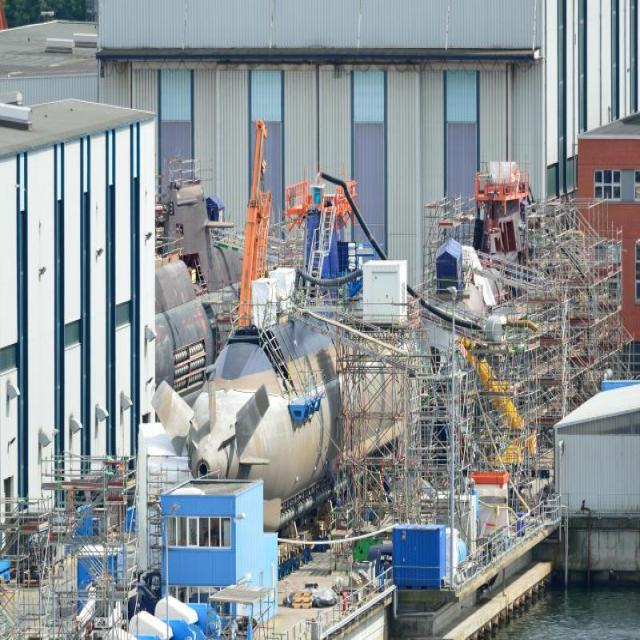submarine: (193, 241, 524, 480)
